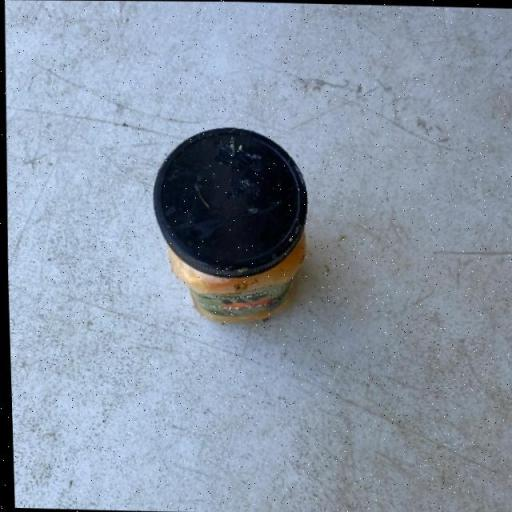plastic: (146, 123, 310, 324)
